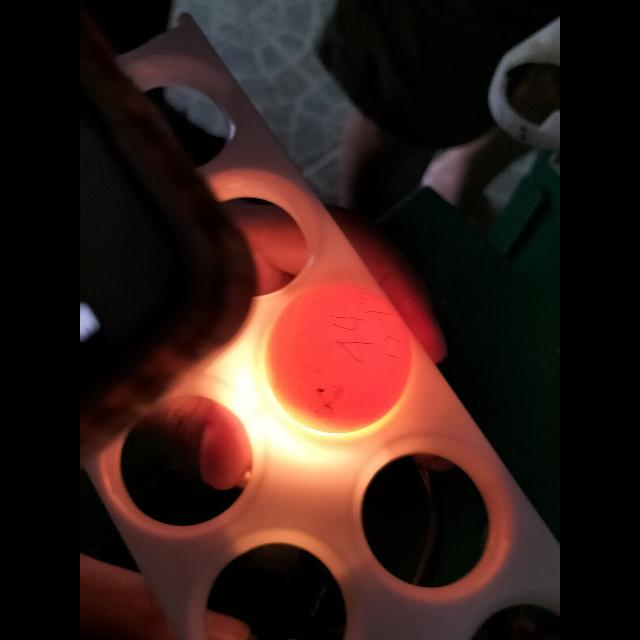Infertile: (264, 276, 412, 440)
